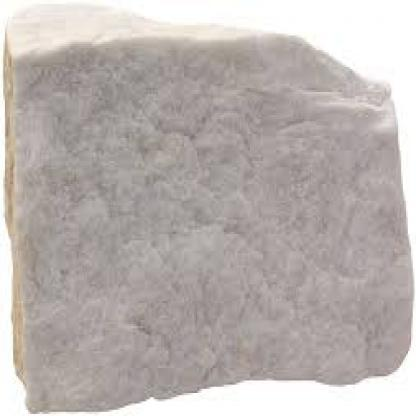Metamorphic_Marble: (2, 2, 414, 414)
